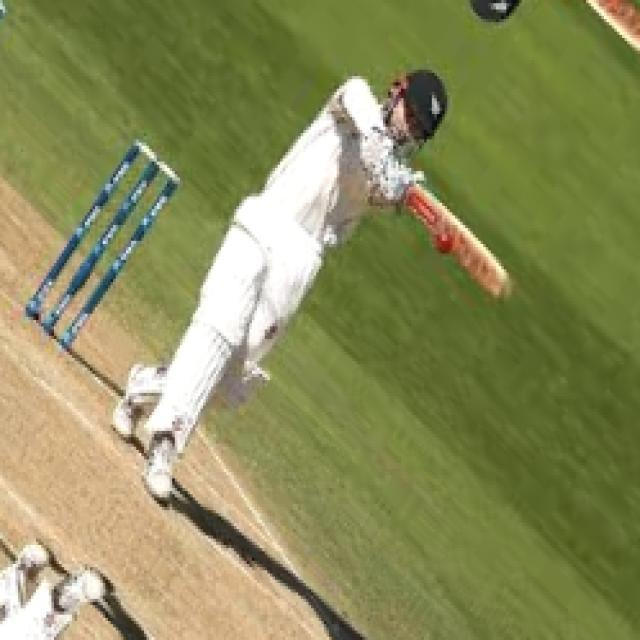toe: (482, 244, 512, 312)
